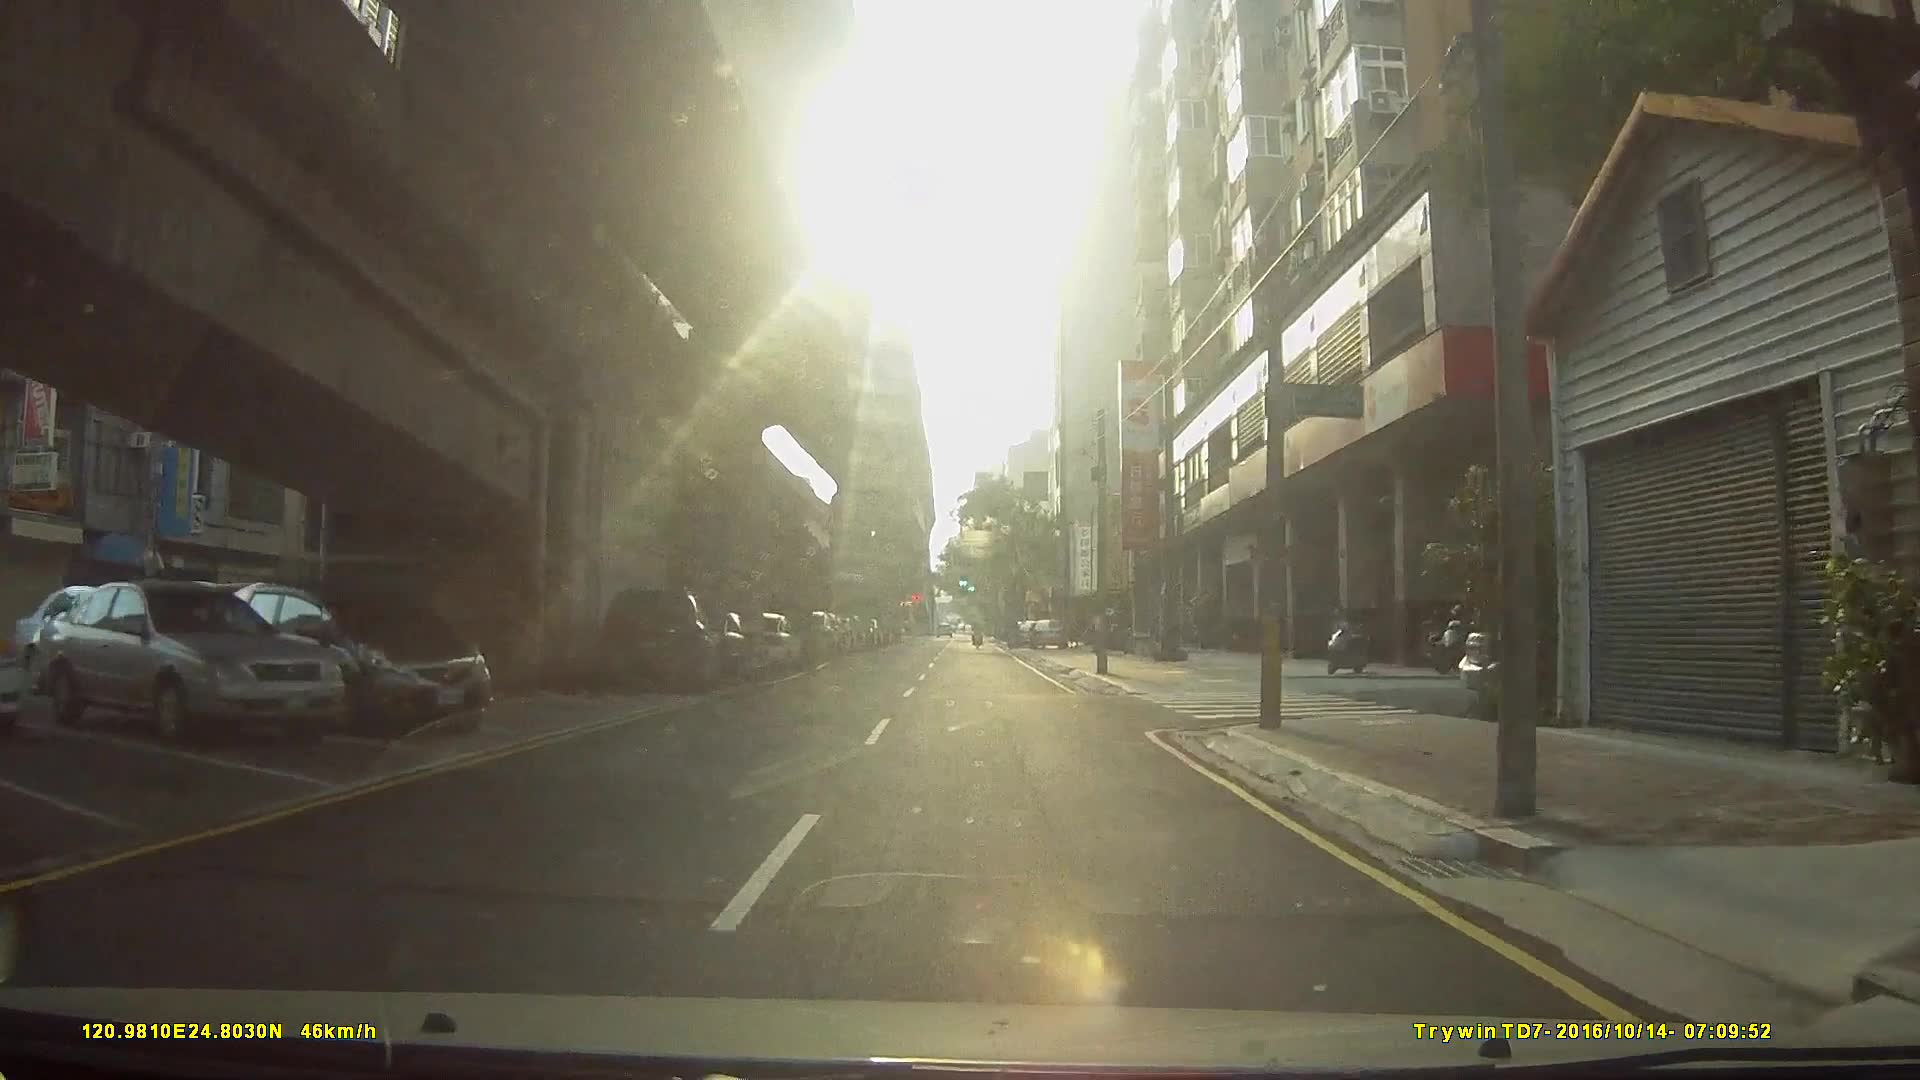vehicle: (37, 582, 343, 746), (229, 579, 497, 737), (592, 588, 727, 695), (1029, 618, 1065, 651)
